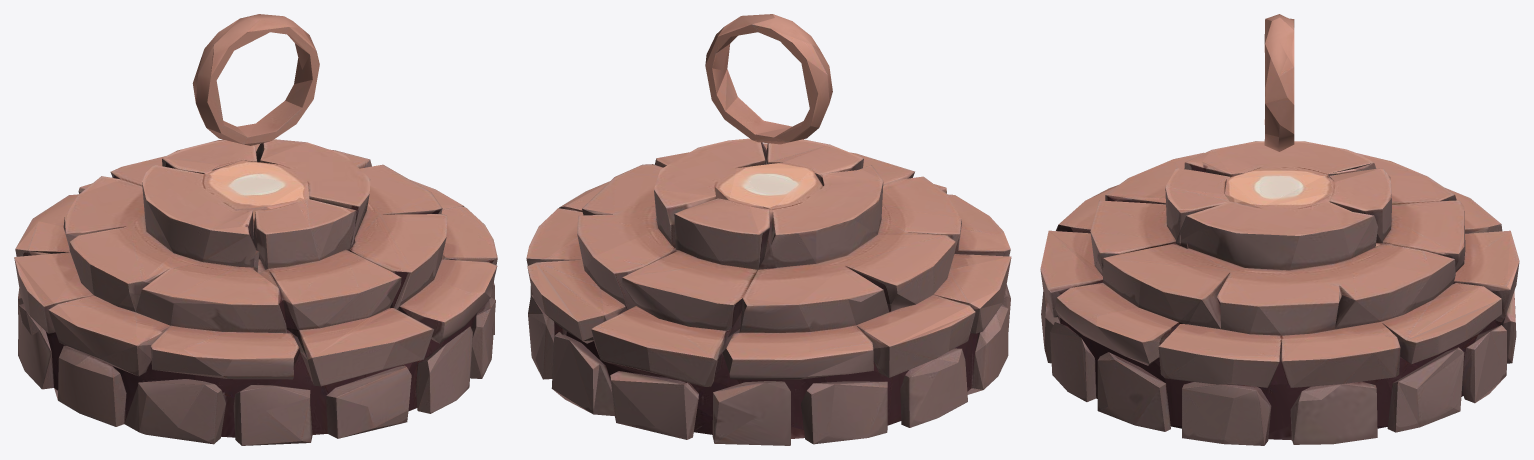
The model's file is pedestal-mestre.glb.
3 renders of one model, left to right at view 1: azimuth 30°, elevation 25°; view 2: azimuth 150°, elevation 25°; view 3: azimuth 270°, elevation 25°, orthographic.
Size of the model in its own units: 1.9 by 1.43 by 1.9.
Materials: 1 (1 with a texture image).
